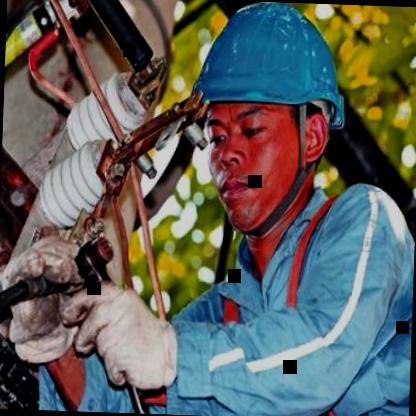helmet: (184, 0, 353, 239)
